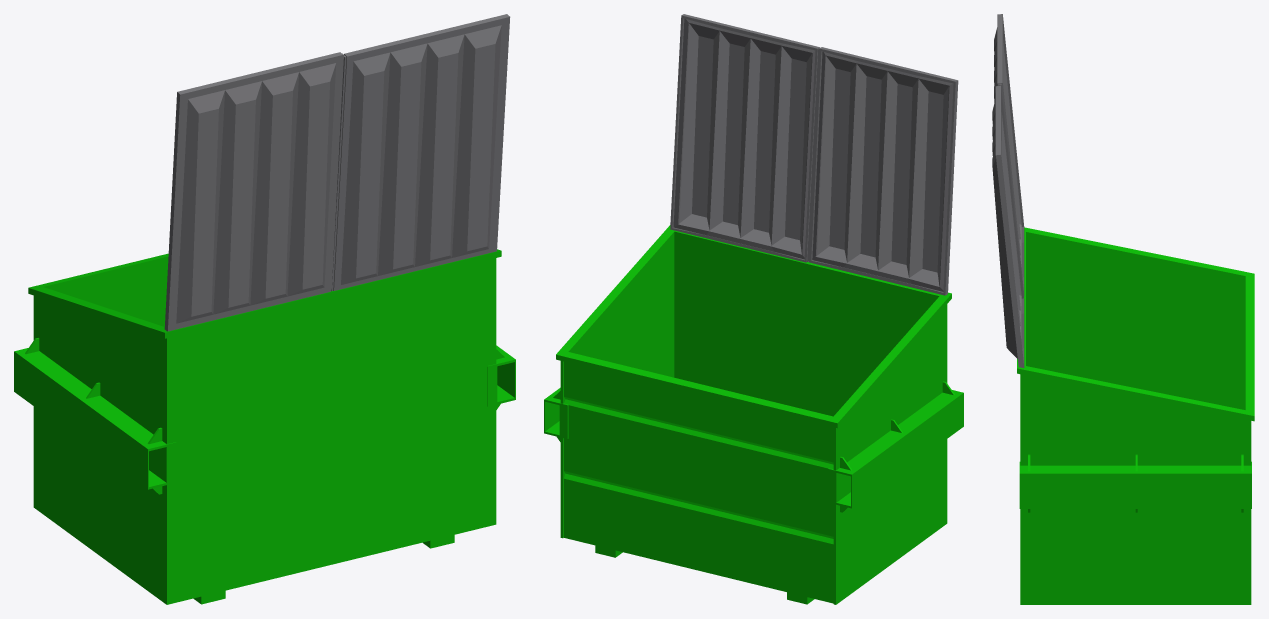
File: Dumpster_Open.fbx
3 views of the same model, side by side, from view 1: azimuth 30°, elevation 25°; view 2: azimuth 150°, elevation 25°; view 3: azimuth 270°, elevation 25° (orthographic). The views are drawn at different scales.
Visible parts, largest first — view 1: Container, Lid_Open, SideThingys; view 2: Container, Lid_Open, SideThingys; view 3: Container, SideThingys, Lid_Open.
Boxes of the visible parts, x1,y1,x2,y2 form: Container: (28, 249, 501, 604); Lid_Open: (164, 14, 510, 331); SideThingys: (14, 338, 515, 494); Container: (556, 225, 951, 604); Lid_Open: (670, 14, 958, 295); SideThingys: (544, 381, 963, 512); Container: (1017, 227, 1254, 604); SideThingys: (1019, 454, 1251, 512); Lid_Open: (992, 14, 1024, 367).
Size of the model in its own units: 271 by 375 by 193.
